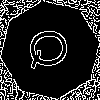Q: (25, 25, 79, 72)
